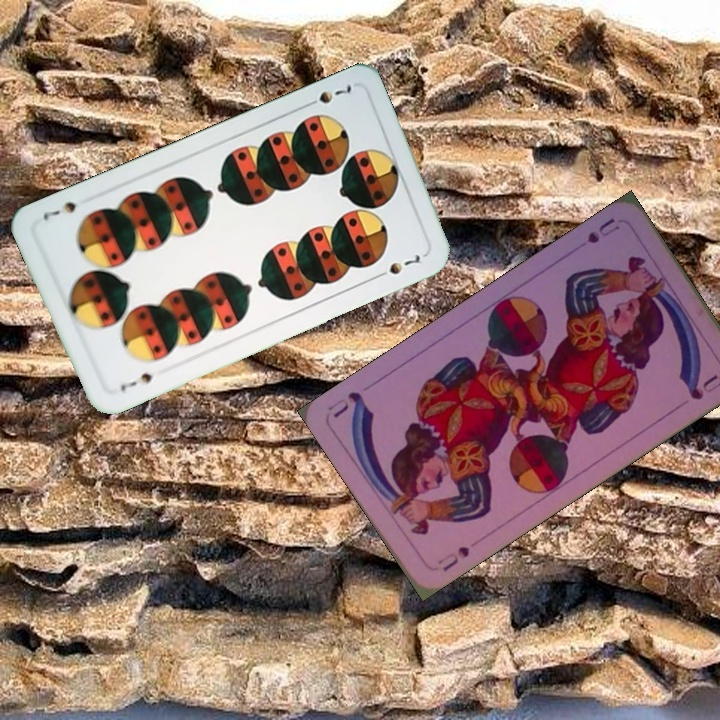S7: (300, 79, 355, 110), (116, 366, 163, 394)
SU: (582, 214, 623, 246), (437, 542, 473, 574)
